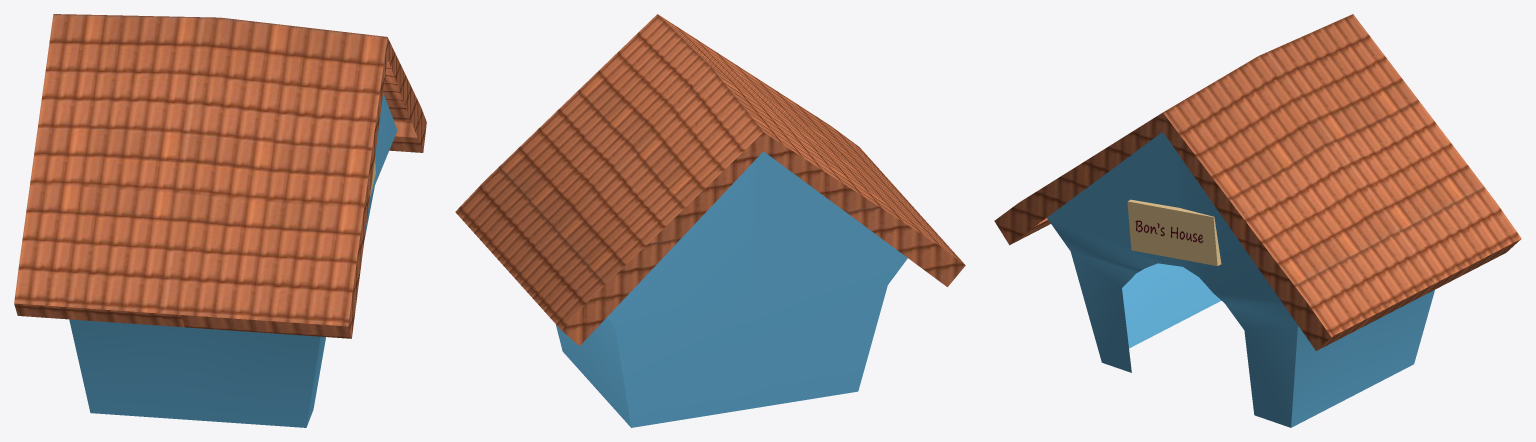
Rendered from Dog's house.fbx.
The picture shows the model from 3 angles, left to right: view 1: azimuth 30°, elevation 25°; view 2: azimuth 150°, elevation 25°; view 3: azimuth 270°, elevation 25°; orthographic projection. The views are drawn at different scales.
Parts seen in each view (by area): view 1: polySurface4, polySurface3; view 2: polySurface4, polySurface3; view 3: polySurface4, polySurface3, pCube41.
Boxes of the visible parts, <box> form: polySurface4: <box>14,14,426,338</box>; polySurface3: <box>69,93,397,427</box>; polySurface4: <box>455,14,965,345</box>; polySurface3: <box>556,151,907,427</box>; polySurface4: <box>994,14,1521,350</box>; polySurface3: <box>1047,132,1434,427</box>; pCube41: <box>1127,199,1221,265</box>.
Size of the model in its own units: 5.01 by 3.34 by 5.2.
Materials: 3 (3 with a texture image).
